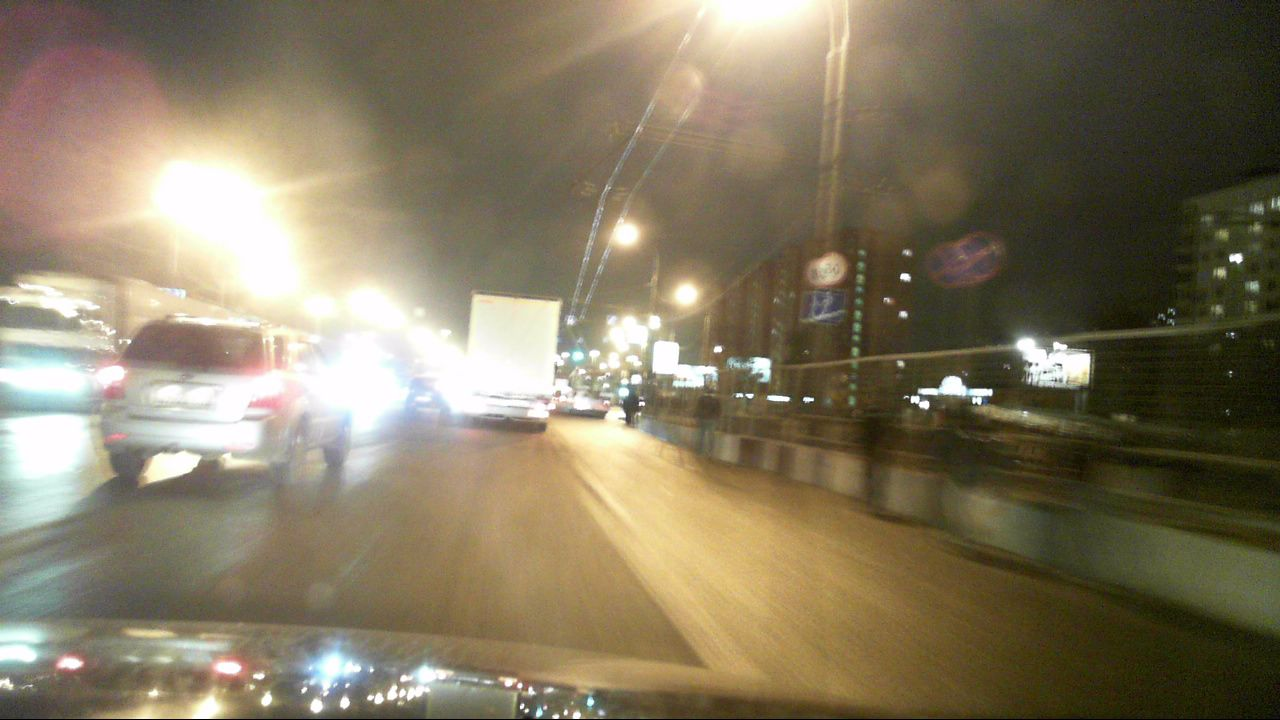No Parking: (953, 232, 1002, 283)
